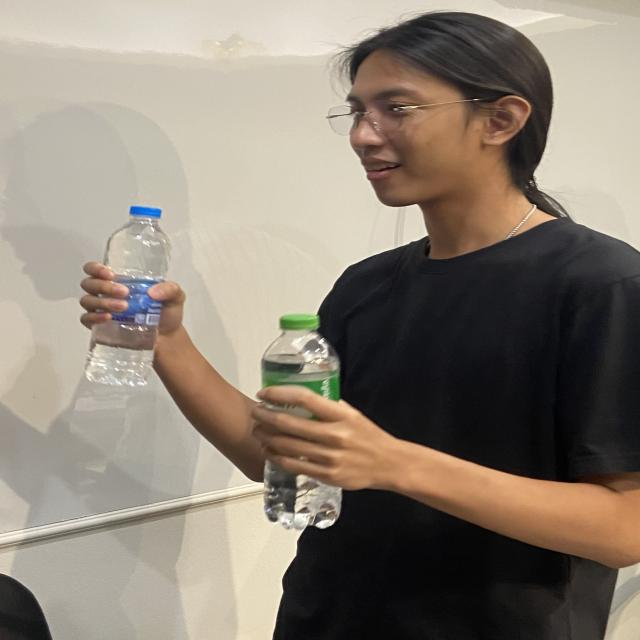bottle: (251, 312, 352, 532), (83, 203, 175, 387)
